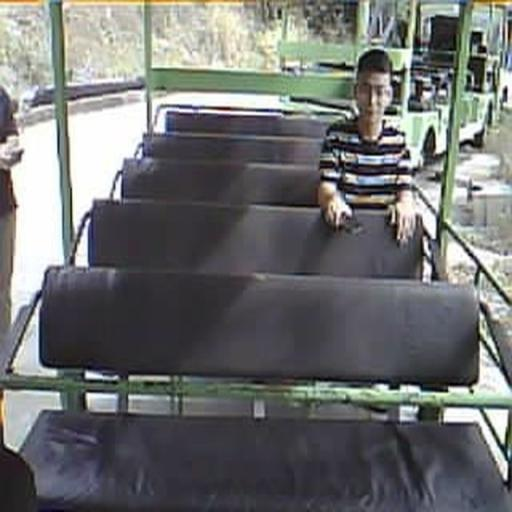persona: (317, 45, 419, 246)
